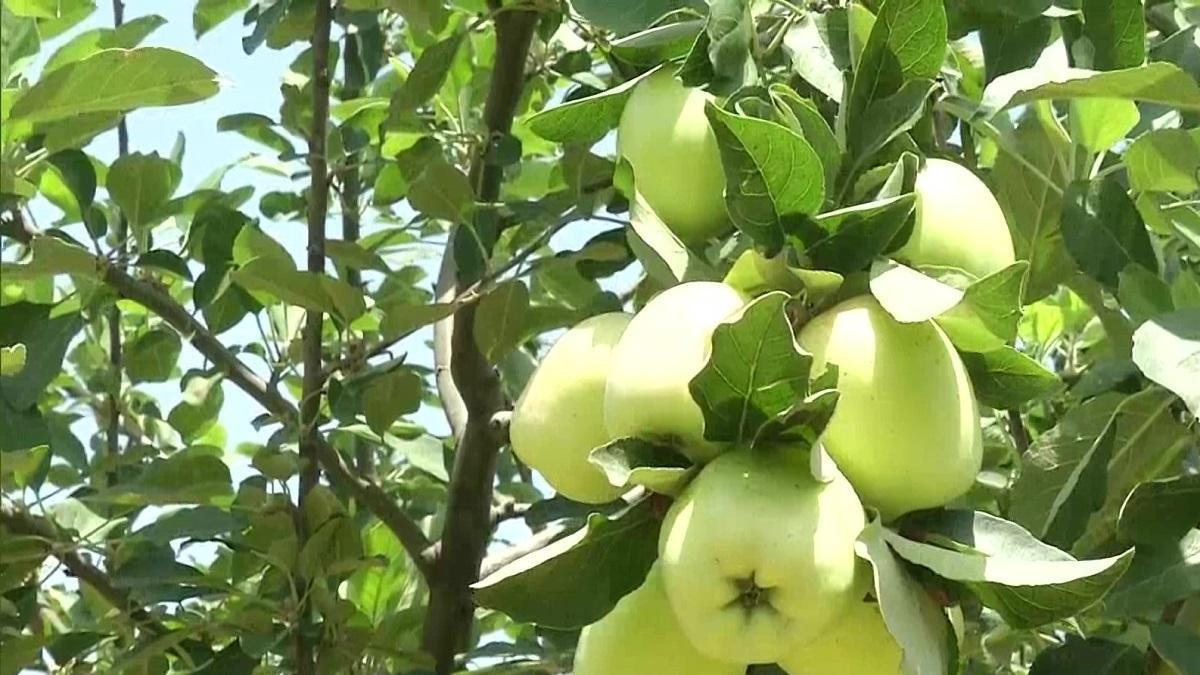apple: (660, 434, 880, 667), (789, 288, 985, 523), (601, 282, 757, 458), (507, 315, 631, 500), (619, 65, 739, 242)
